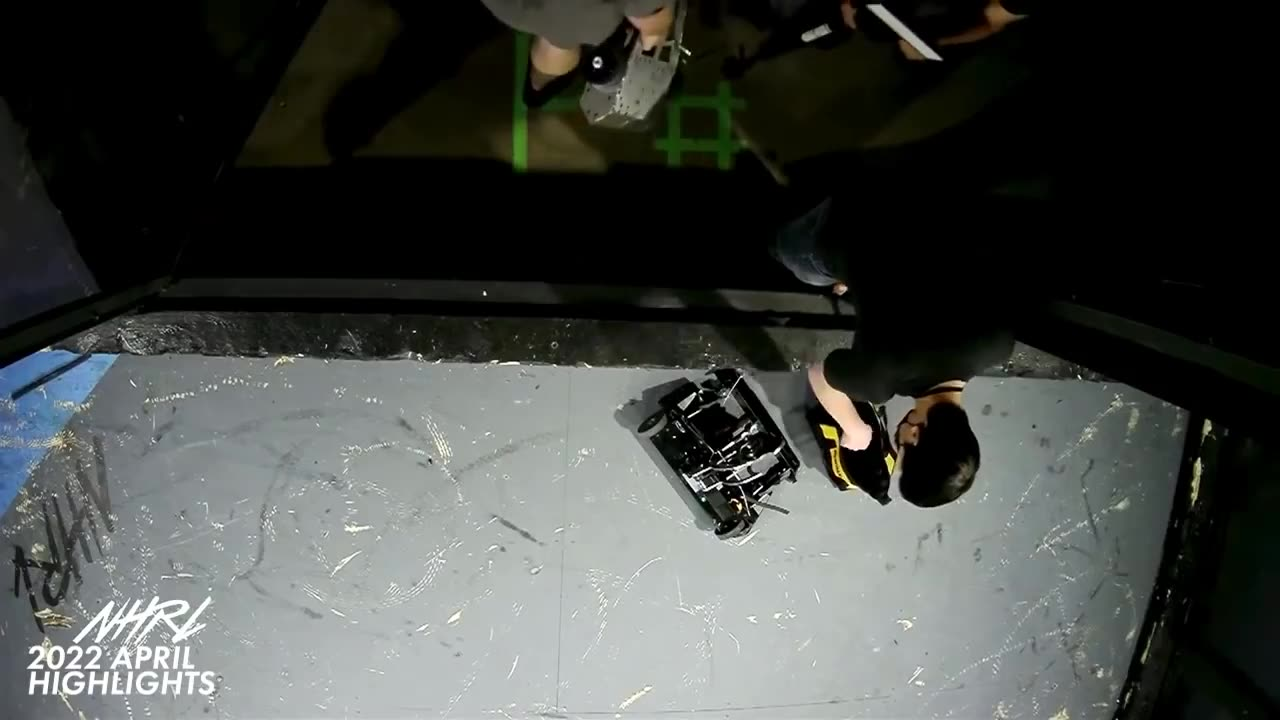combatbot: (629, 367, 800, 545)
